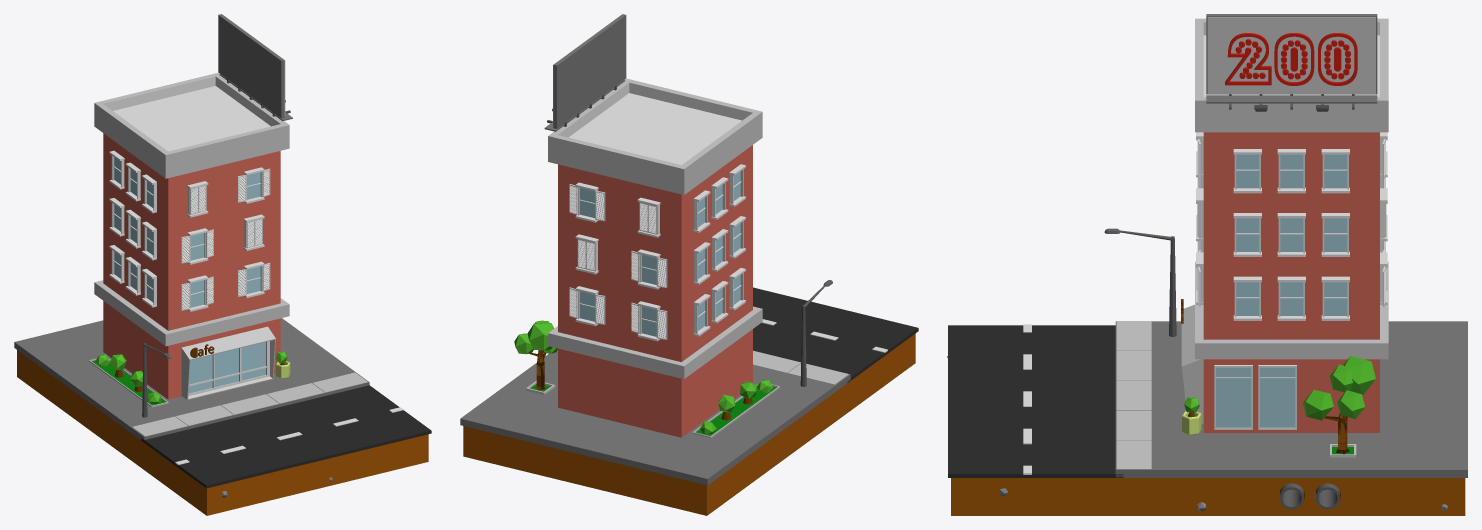
Rendered from cities_b2.fbx.
The picture shows the model from 3 angles, left to right: view 1: azimuth 30°, elevation 25°; view 2: azimuth 150°, elevation 25°; view 3: azimuth 270°, elevation 25°; orthographic projection. The views are drawn at different scales.
Visible parts, largest first — view 1: Cube_2, Cube_2_2, ZEMIN, Cube_17_2, Cube_3_42, Cube_7_2, Cube, Cube_2_5, Cube_1, Cube_3, Cube_4, Cube_5 (+8 smaller); view 2: Cube_2, ZEMIN, Cube_17_2, Cube, Cube_3_42, Cube_2_2, Cube_7_2, Cube_2_5, Cube_1, Cube_18, Cube_5_19, Cube_4_41 (+1 smaller); view 3: ZEMIN, Cube_2, Cube_2_2, Cube_17_2, Cube_2_3, Cube_7_2, Cube, Cube_1, Cap_2_2, Cube_6_2, Cube_5_3, Cube_3 (+22 smaller).
Boxes of the visible parts, x1,y1,x2,y2 form: Cube_2: (103,133,280,330); Cube_2_2: (141,385,431,488); ZEMIN: (14,318,369,440); Cube_17_2: (17,350,428,515); Cube_3_42: (104,76,280,151); Cube_7_2: (94,73,289,178); Cube: (103,301,280,399); Cube_2_5: (218,14,284,118); Cube_1: (94,280,289,346); Cube_3: (181,326,275,399); Cube_4: (188,340,274,398); Cube_5: (241,341,266,372); Cube_2: (558,145,752,361); ZEMIN: (460,349,850,485); Cube_17_2: (463,333,915,515); Cube: (558,329,752,437); Cube_3_42: (558,82,752,164); Cube_2_2: (753,287,918,382); Cube_7_2: (548,78,762,194); Cube_2_5: (553,14,626,128); Cube_1: (548,306,762,378); Cube_18: (694,385,777,435); Cube_5_19: (788,363,848,384); Cube_4_41: (753,350,801,372); ZEMIN: (1115,321,1467,477); Cube_2: (1203,132,1379,339); Cube_2_2: (948,325,1123,477); Cube_17_2: (951,478,1465,515); Cube_2_3: (1207,17,1375,93); Cube_7_2: (1195,18,1388,132); Cube: (1203,359,1379,432); Cube_1: (1195,261,1388,359); Cap_2_2: (1225,34,1357,85); Cube_6_2: (1260,367,1295,428); Cube_5_3: (1216,367,1251,428); Cube_3: (1181,304,1203,423).
Size of the model in its own units: 405 by 585 by 592.
